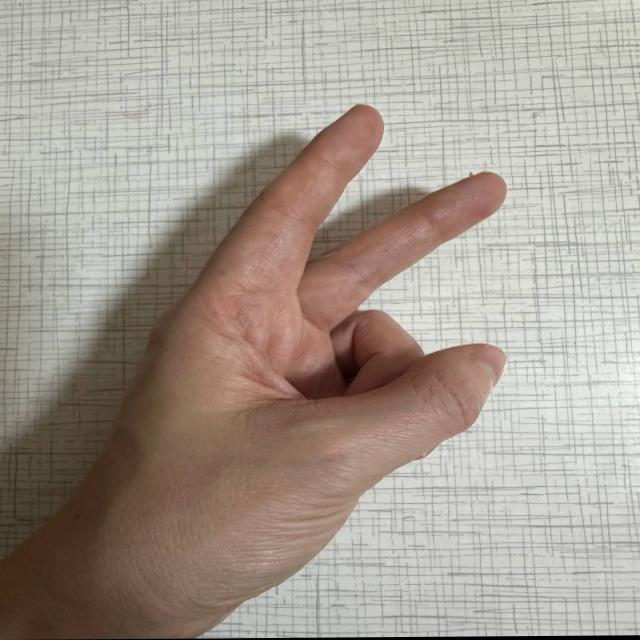k: (151, 90, 540, 516)
